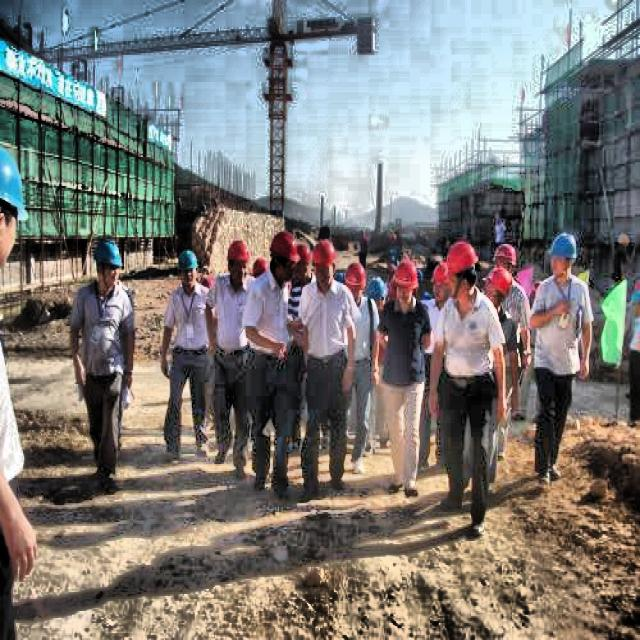helmet: (1, 144, 31, 276), (90, 232, 124, 295), (449, 242, 480, 304), (482, 266, 514, 319), (547, 230, 577, 285), (269, 227, 298, 282), (224, 239, 252, 292), (311, 237, 337, 292), (392, 261, 420, 309), (366, 273, 390, 321), (342, 260, 367, 306), (429, 263, 454, 309), (492, 242, 518, 285), (177, 248, 200, 294), (293, 244, 315, 292)
